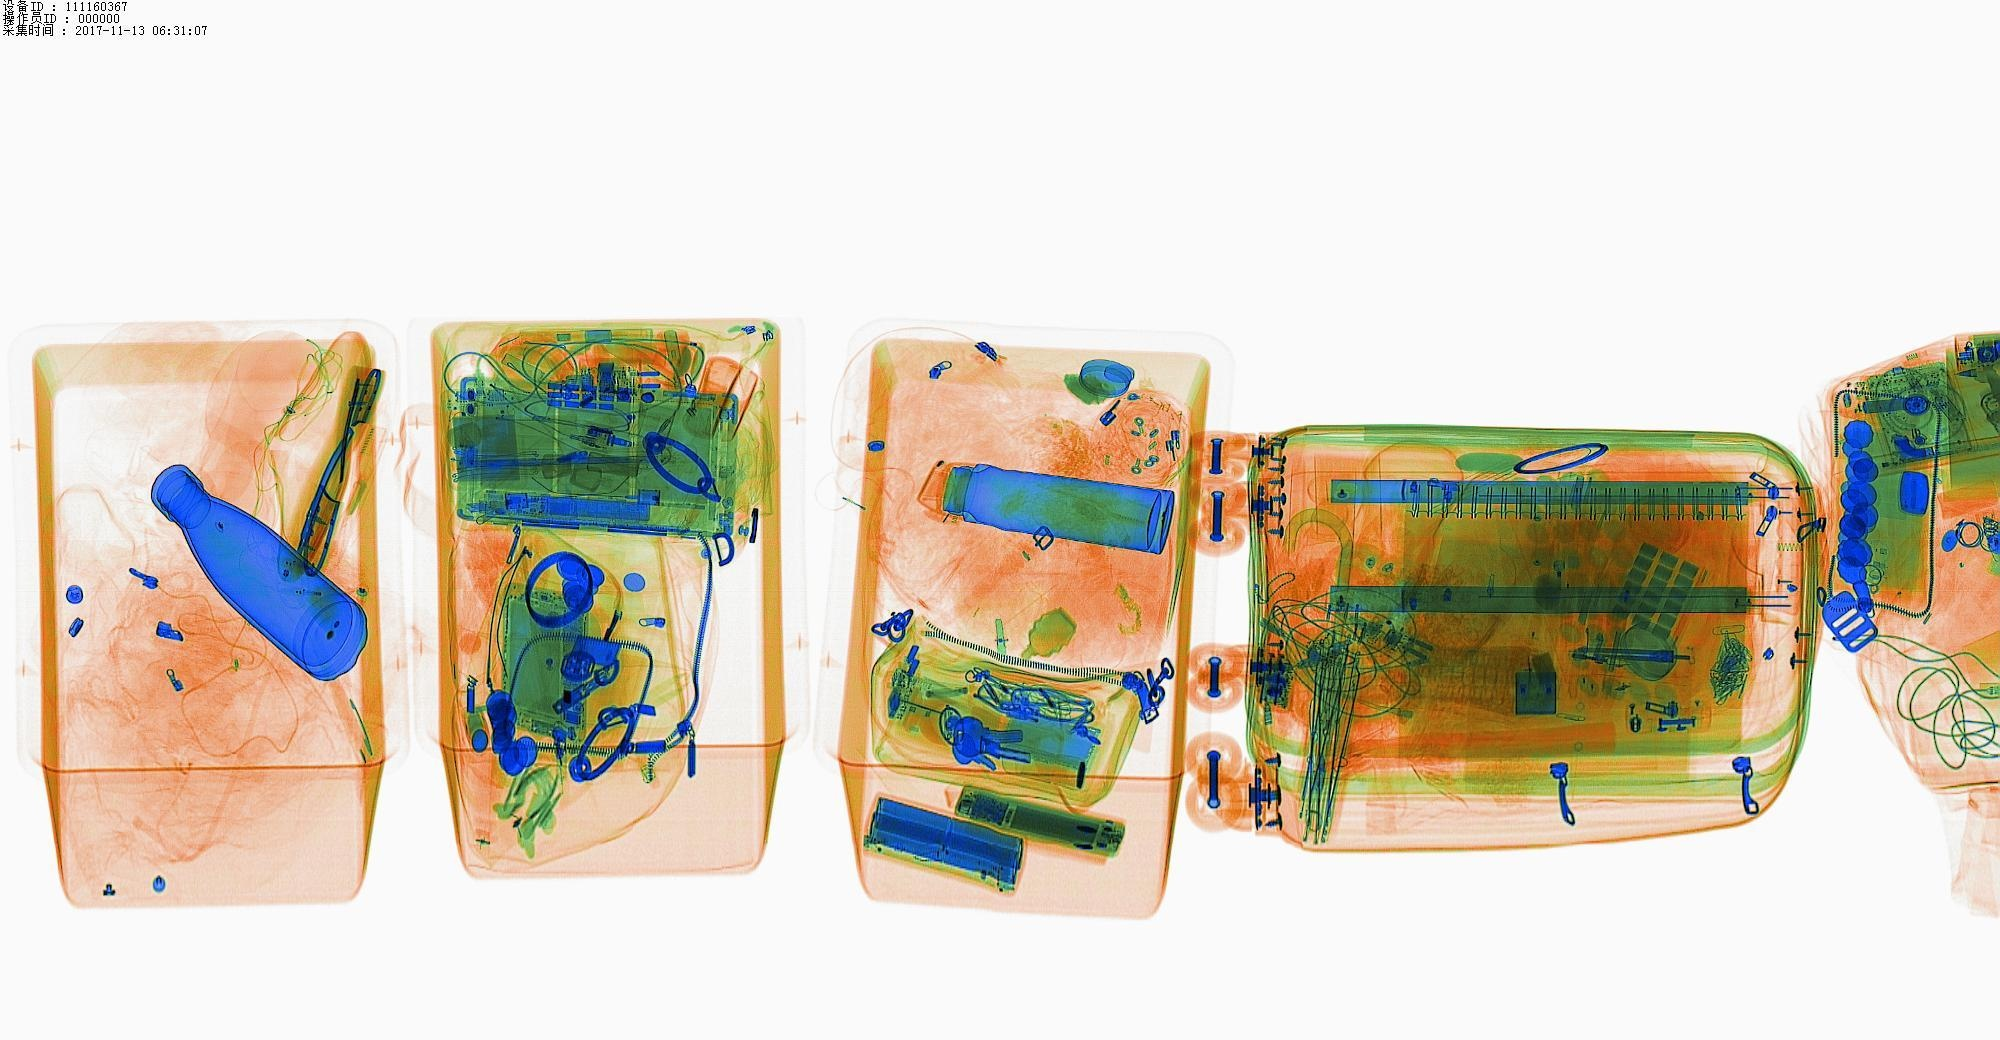core: (866, 798, 1022, 885)
coreless: (448, 392, 526, 482)
